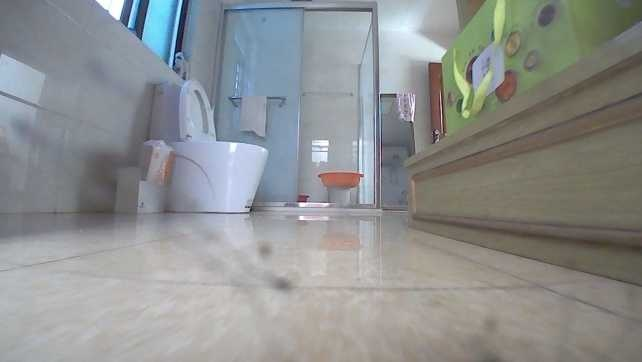toilet: (150, 79, 270, 212)
